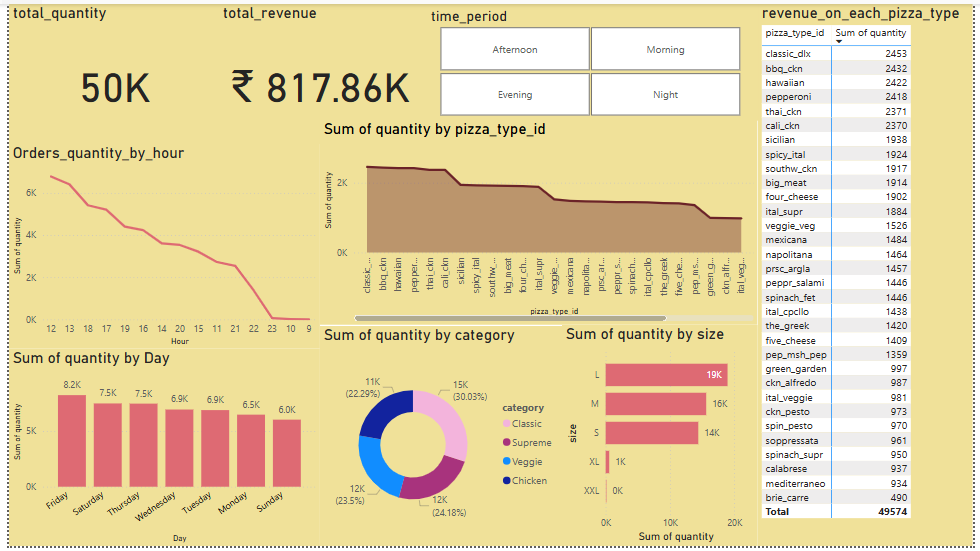

The dashboard page shown, as its layout file describes it:
{"tool":"powerbi","page":{"name":"Page 1","canvas":[1280,720],"ordinal":0},"visuals":[{"type":"card","title":"total_quantity","fields":{"Values":["Sum(orders_details.quantity)"]},"box":[0,0,279.5,185.9],"z":0},{"type":"card","title":"total_revenue","fields":{"Values":["Sum(combined.total_price)"]},"box":[278.8,0,268.8,186.5],"z":1000},{"type":"lineChart","title":"Orders_quantity_by_hour","fields":{"Category":["orders.Hour"],"Y":["Sum(orders_details.quantity)"]},"box":[0,186,413.1,240.4],"z":2000},{"type":"columnChart","fields":{"Y":["Sum(orders_details.quantity)"],"Category":["orders.Day"]},"box":[0,426.4,413.1,293.6],"z":3000},{"type":"pivotTable","title":"revenue_on_each_pizza_type","fields":{"Rows":["pizza_details.pizza_type_id"],"Values":["Sum(orders_details.quantity)"]},"box":[995.1,0,285.4,720],"z":4000},{"type":"donutChart","fields":{"Y":["Sum(orders_details.quantity)"],"Category":["Pizza_types.category"]},"box":[413.1,426.4,321.5,293.6],"z":5000},{"type":"slicer","fields":{"Values":["orders.time_period"]},"box":[547.3,0,447.7,186],"z":6000},{"type":"stackedAreaChart","title":"Sum of quantity by pizza_type_id","fields":{"Category":["pizza_details.pizza_type_id"],"Y":["Sum(orders_details.quantity)"]},"box":[413.1,186,581.8,240.4],"z":7000},{"type":"barChart","fields":{"Category":["pizza_details.size"],"Y":["Sum(orders_details.quantity)"]},"box":[734.1,426.7,260.4,294],"z":8000}]}

Visuals, with their boxes in screenshot pixels (x1, y1, x2, y2), scaled from the page's 1280x720 canvas onto the 980x551 screenshot:
"total_quantity" card: <box>0,0,214,142</box>
"total_revenue" card: <box>213,0,419,143</box>
"Orders_quantity_by_hour" lineChart: <box>0,142,316,326</box>
columnChart - Sum(orders_details.quantity) x orders.Day: <box>0,326,316,550</box>
"revenue_on_each_pizza_type" pivotTable: <box>762,0,979,550</box>
donutChart - Sum(orders_details.quantity) x Pizza_types.category: <box>316,326,562,550</box>
slicer - orders.time_period: <box>419,0,762,142</box>
"Sum of quantity by pizza_type_id" stackedAreaChart: <box>316,142,762,326</box>
barChart - pizza_details.size x Sum(orders_details.quantity): <box>562,327,761,550</box>
